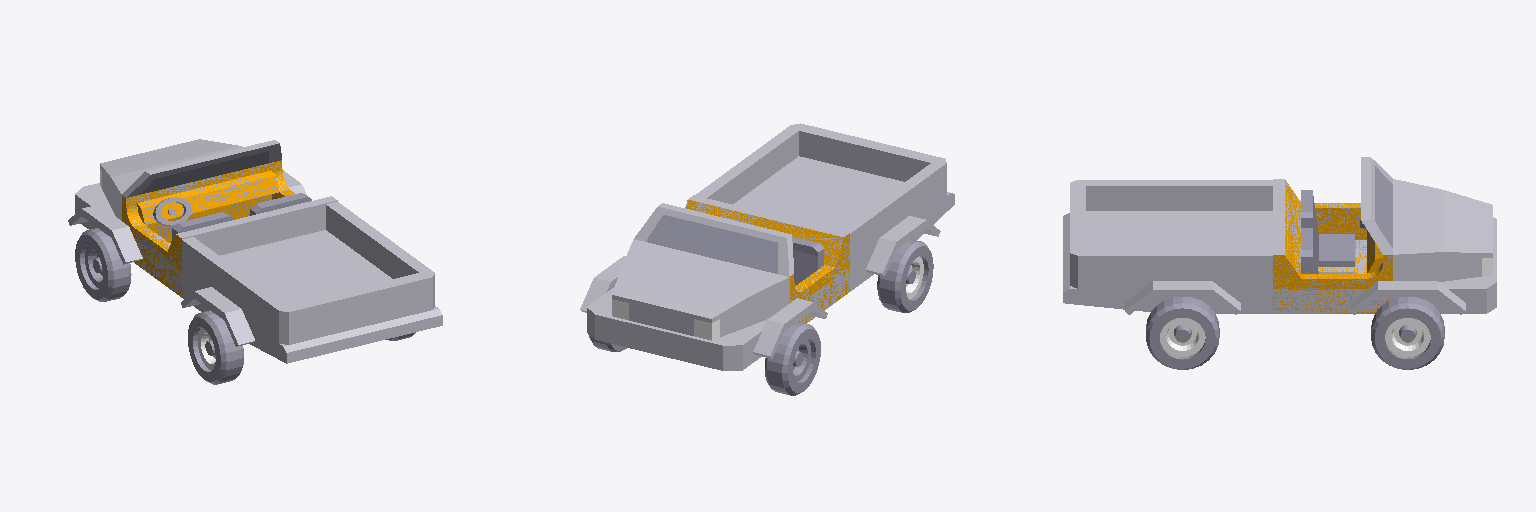
The model's file is airlineCar.model.obj.
The picture shows the model from 3 angles: view 1: azimuth 30°, elevation 25°; view 2: azimuth 150°, elevation 25°; view 3: azimuth 270°, elevation 25°; orthographic projection.
Size of the model in its own units: 1.54 by 0.9864 by 2.9.